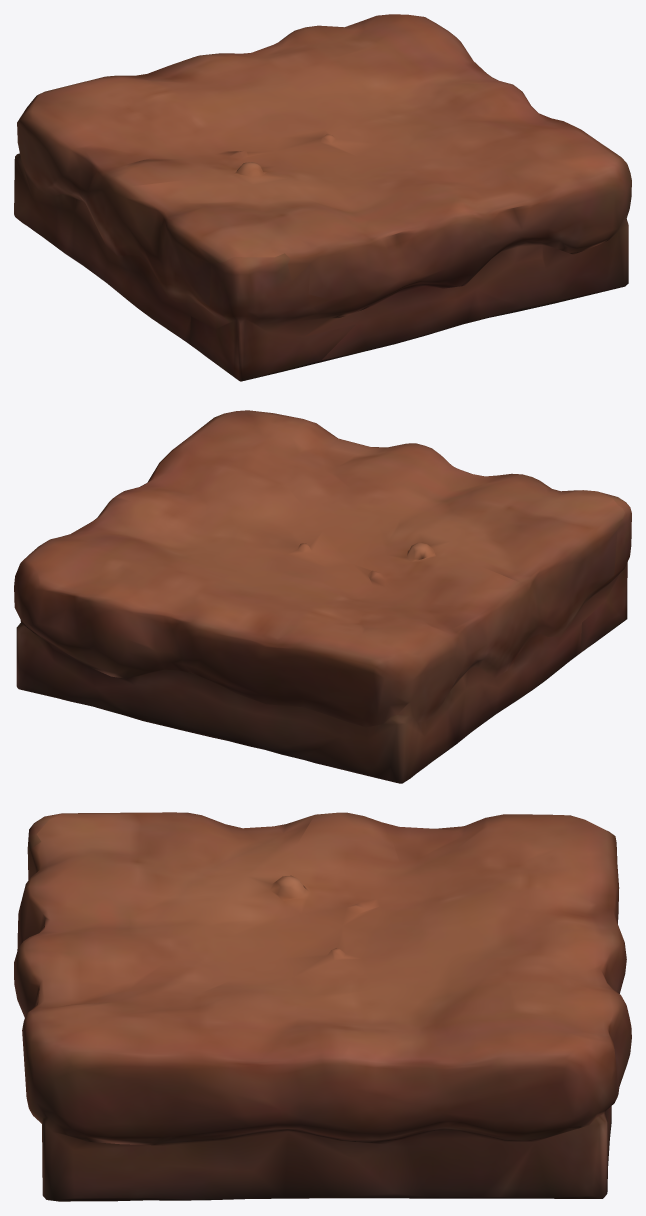
Rendered from t02_terra_vermelha.glb.
3 views of the same model, one above another, from view 1: azimuth 30°, elevation 25°; view 2: azimuth 150°, elevation 25°; view 3: azimuth 270°, elevation 25° (orthographic). The views are drawn at different scales.
Parts seen in each view (by area): view 1: t02_terra_vermelha; view 2: t02_terra_vermelha; view 3: t02_terra_vermelha.
Part boxes in pixels (bbox=[...]): t02_terra_vermelha: bbox=[14, 14, 631, 381]; t02_terra_vermelha: bbox=[14, 410, 631, 783]; t02_terra_vermelha: bbox=[14, 812, 631, 1201].
Bounding box in the file's own units: 1.01 × 0.2804 × 1.03.
1 material, 1 textured.
